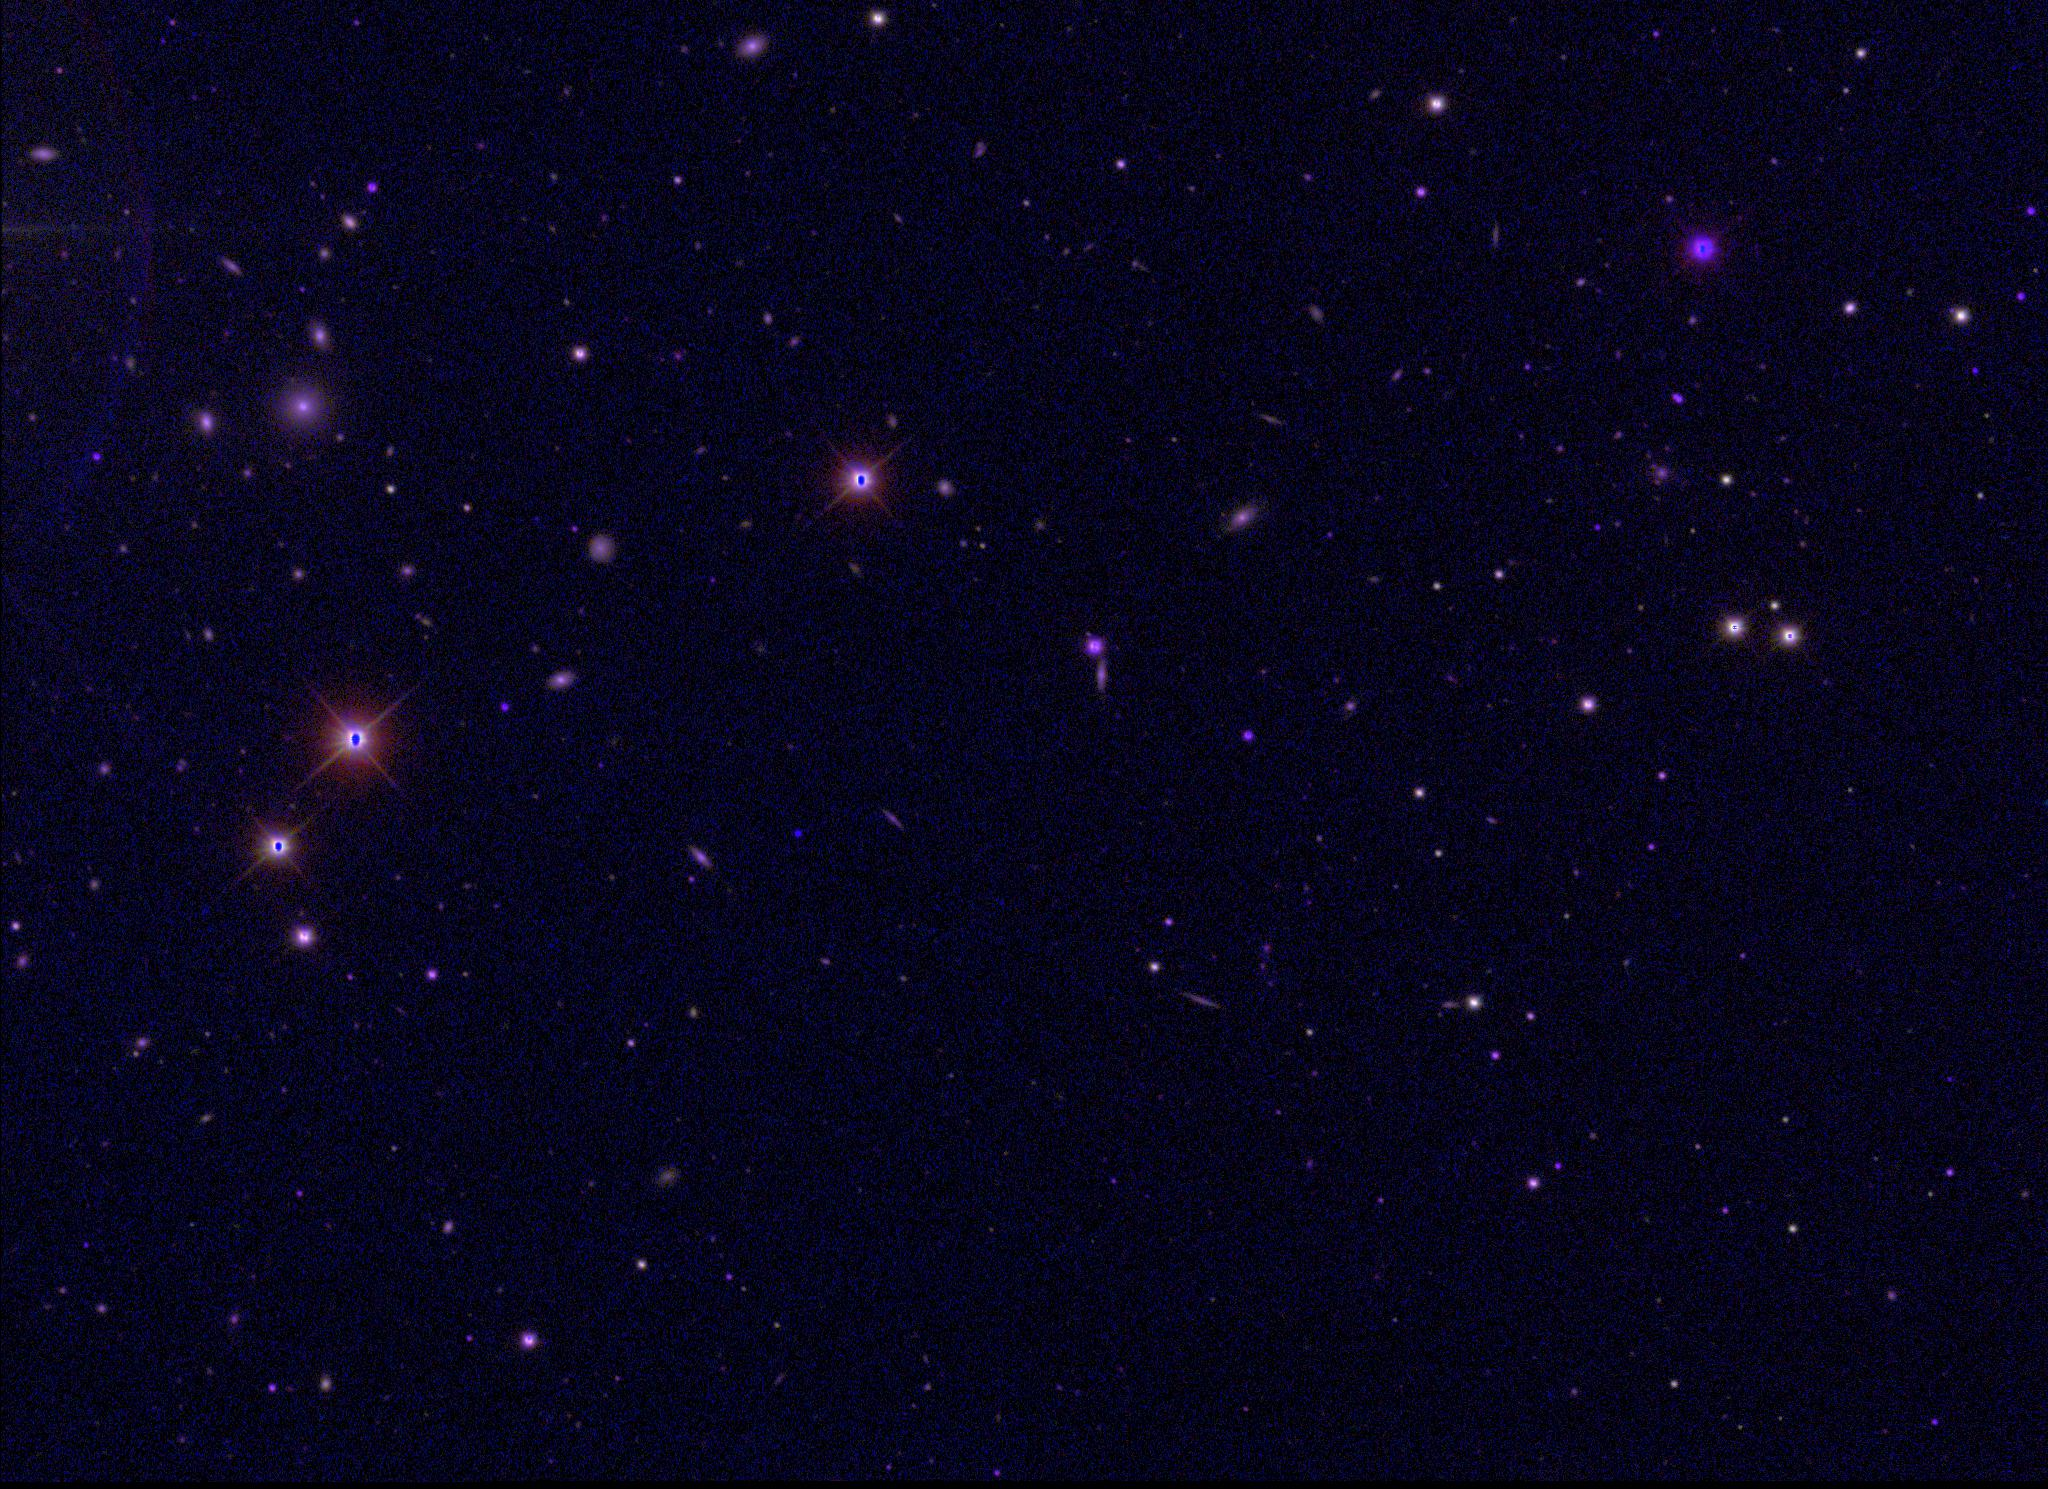L: (790, 826, 805, 838)
